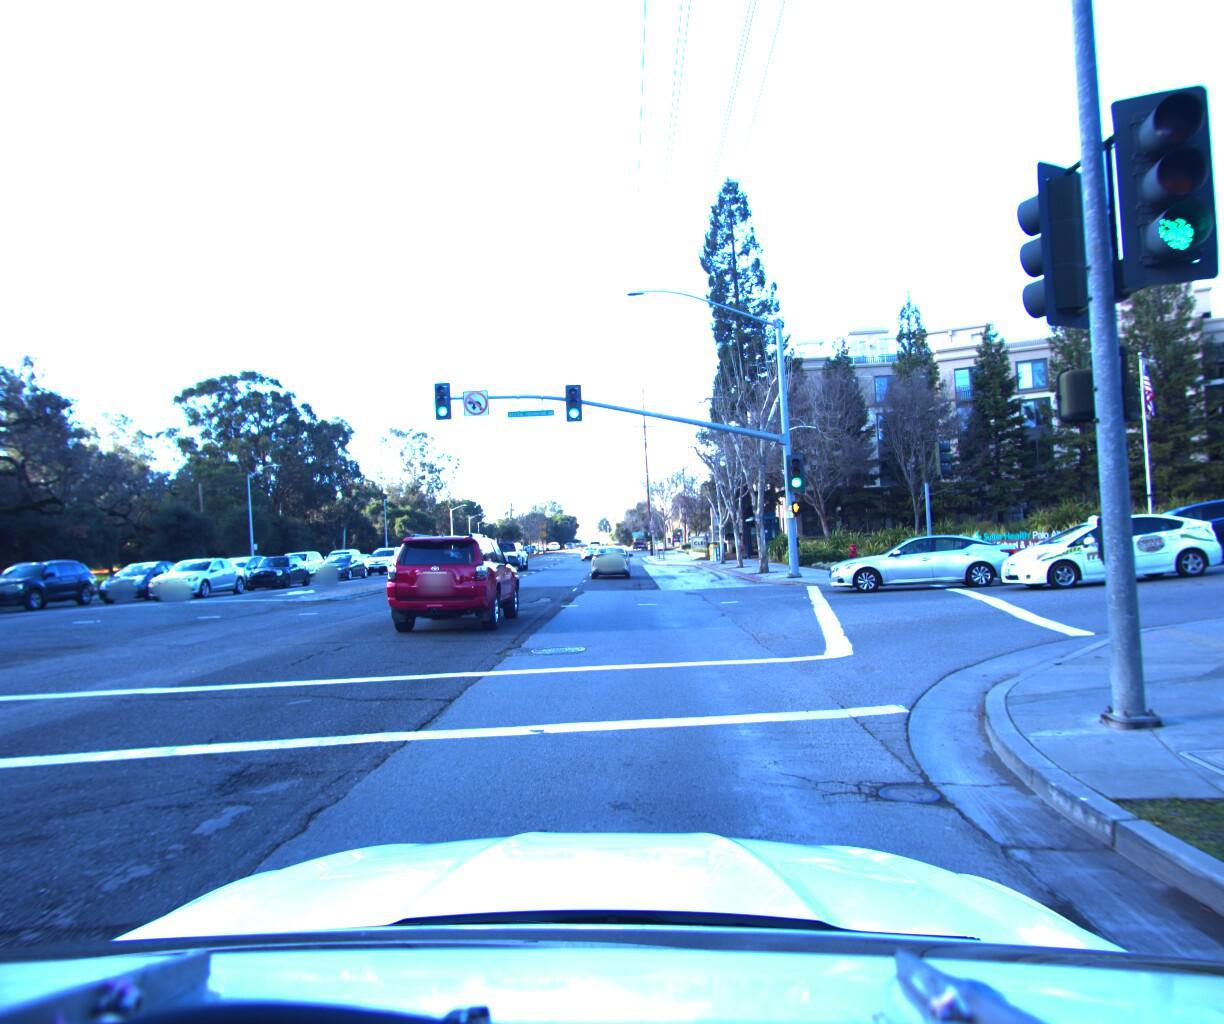car: (982, 501, 1224, 587), (374, 525, 527, 639), (821, 522, 1028, 591), (1072, 485, 1224, 573), (0, 553, 111, 614), (139, 550, 256, 600), (93, 555, 201, 602), (200, 549, 282, 589), (242, 548, 317, 588), (264, 545, 333, 580), (311, 547, 373, 578), (587, 539, 632, 577), (484, 534, 532, 569), (362, 540, 412, 570), (319, 542, 368, 571), (576, 533, 599, 555)
